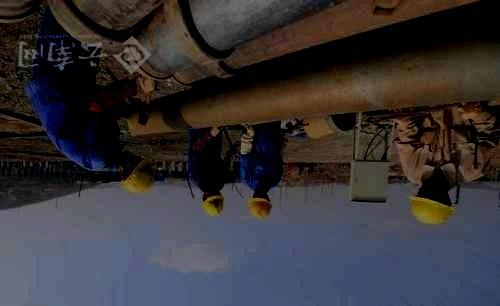helmet: (408, 176, 457, 226), (118, 150, 155, 195), (246, 189, 273, 220), (201, 189, 225, 217)
